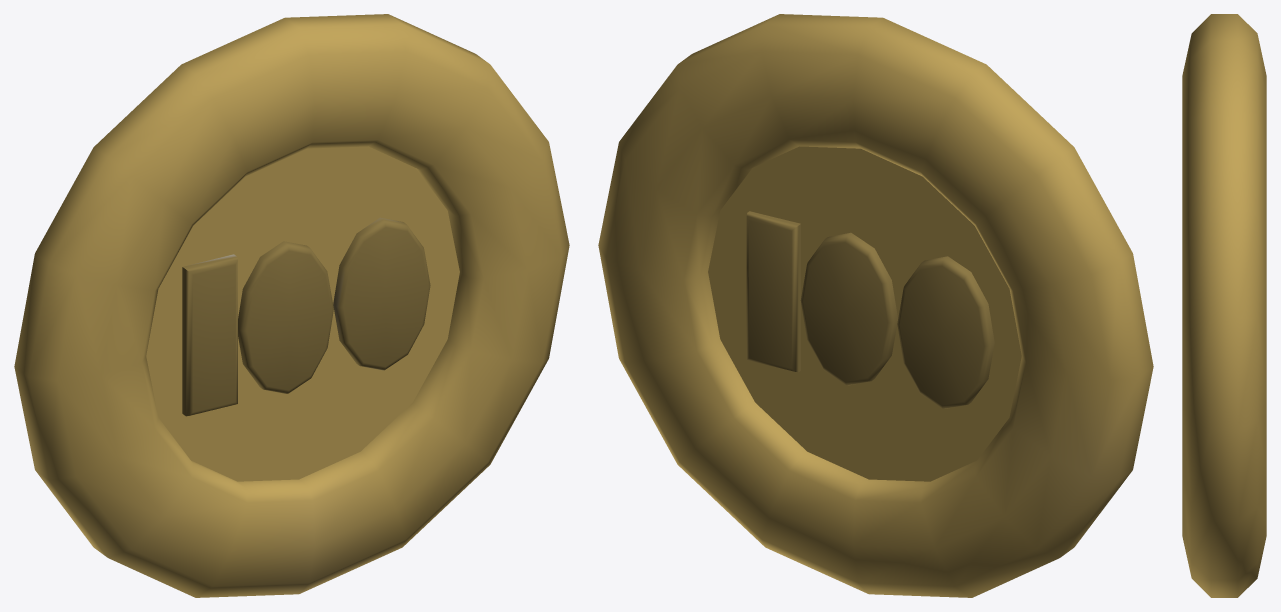
File: ouro.fbx
3 renders of one model, left to right at view 1: azimuth 30°, elevation 25°; view 2: azimuth 150°, elevation 25°; view 3: azimuth 270°, elevation 25°, orthographic. The views are drawn at different scales.
Visible parts, largest first — view 1: Ouro; view 2: Ouro; view 3: Ouro.
Part boxes in pixels (box(x1,y1,x2,y2)): Ouro: box(14, 14, 569, 597); Ouro: box(598, 14, 1153, 597); Ouro: box(1182, 14, 1266, 597).
Size of the model in its own units: 52.35 by 52.35 by 7.53.
